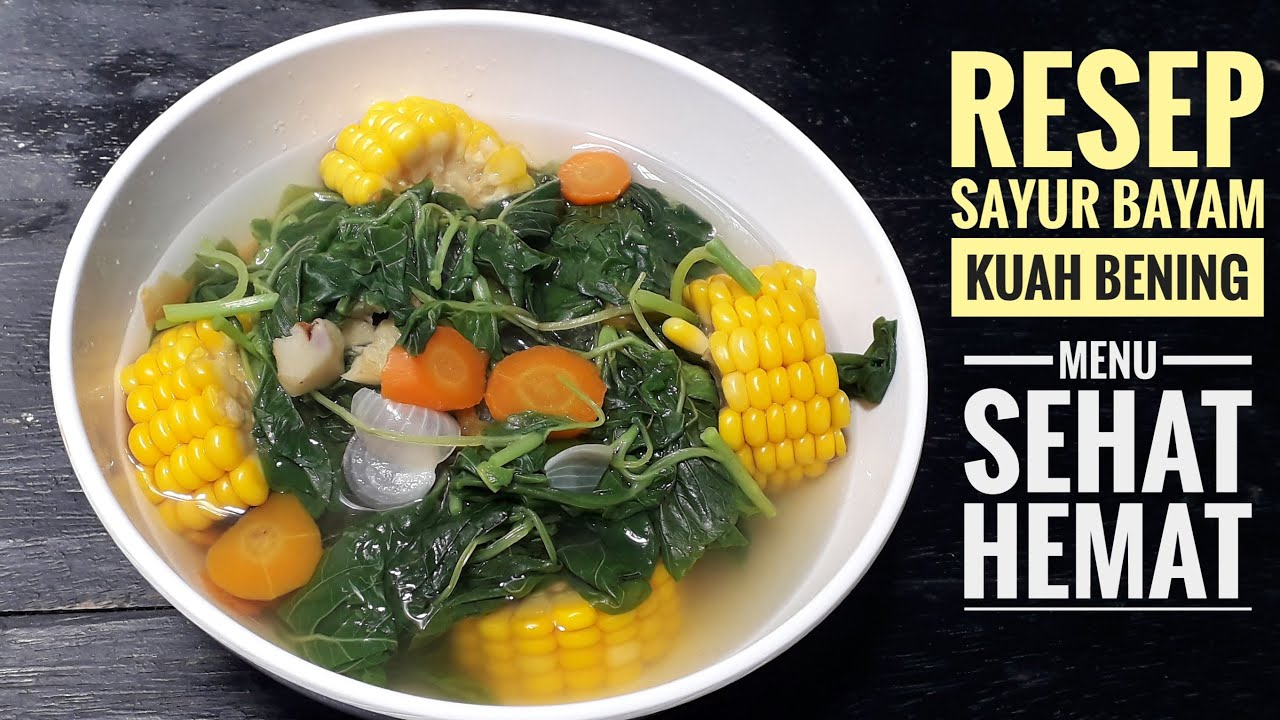Sayur Bayam: (79, 112, 911, 676)
